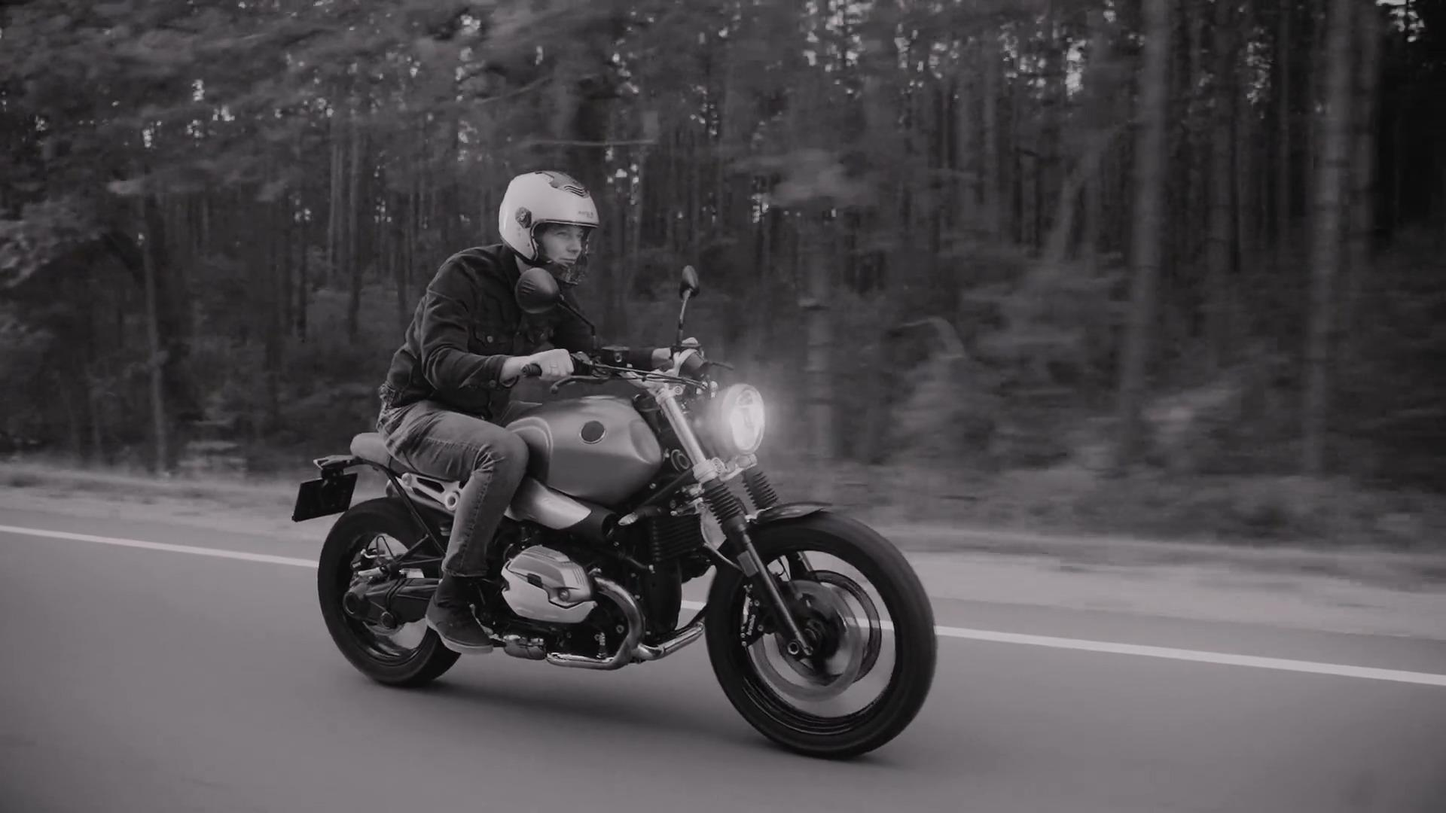driver: (292, 172, 938, 759)
helmet: (498, 172, 600, 291)
